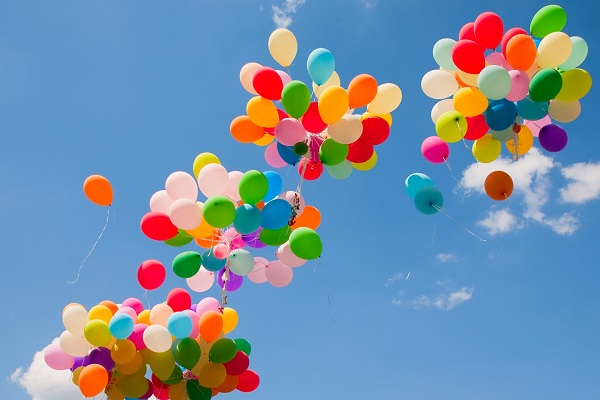Balloon: (536, 32, 570, 67), (529, 68, 563, 102), (478, 64, 511, 99), (421, 69, 459, 99), (268, 28, 297, 67), (289, 227, 323, 260), (558, 70, 592, 103), (529, 5, 567, 34), (281, 80, 309, 119), (198, 163, 231, 196), (306, 48, 335, 85), (203, 194, 235, 227), (368, 83, 402, 114), (317, 87, 348, 121), (453, 39, 484, 72), (347, 74, 377, 108), (141, 212, 177, 240), (327, 115, 363, 143), (474, 12, 502, 48), (436, 112, 468, 143), (78, 363, 108, 396), (171, 199, 203, 229), (263, 199, 293, 231), (239, 169, 267, 203), (273, 118, 308, 145), (84, 174, 113, 206), (166, 171, 198, 200), (454, 89, 488, 116), (230, 116, 265, 142), (253, 69, 283, 99), (486, 98, 515, 129), (414, 186, 444, 215), (171, 250, 202, 278), (539, 123, 568, 152), (485, 171, 513, 201), (175, 337, 201, 369), (143, 325, 172, 353), (235, 204, 262, 234), (421, 136, 451, 163), (151, 350, 176, 382), (199, 310, 223, 343), (138, 260, 165, 289), (62, 304, 87, 335), (472, 134, 499, 162), (265, 261, 293, 287), (85, 319, 111, 347), (186, 267, 214, 293), (319, 139, 347, 165), (227, 249, 253, 276), (198, 362, 226, 387), (209, 339, 237, 364), (361, 119, 389, 144), (118, 375, 149, 397), (46, 345, 73, 370), (109, 313, 134, 339), (168, 312, 192, 338), (218, 266, 242, 291), (111, 339, 136, 362), (167, 288, 192, 311), (299, 157, 323, 180), (226, 352, 249, 375), (187, 379, 212, 400), (219, 307, 238, 334), (149, 303, 171, 326), (237, 371, 259, 392), (213, 243, 228, 259), (295, 142, 309, 155)
